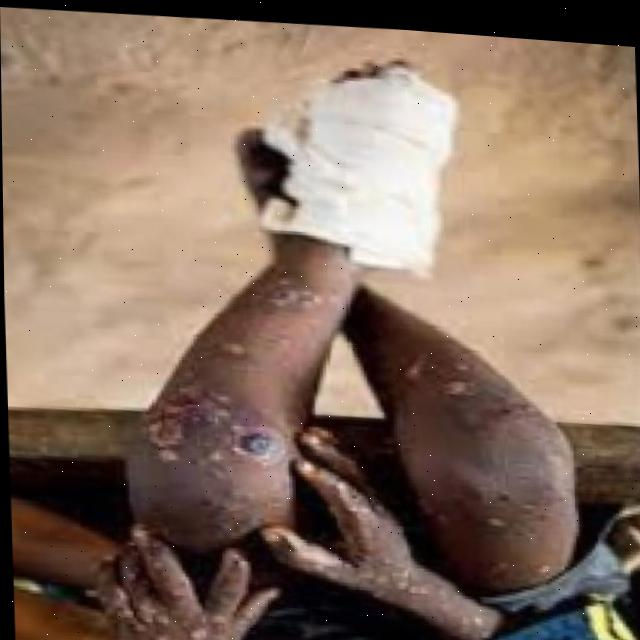Eczema: (146, 271, 331, 498), (443, 352, 512, 536), (367, 540, 471, 632), (118, 561, 233, 640)
